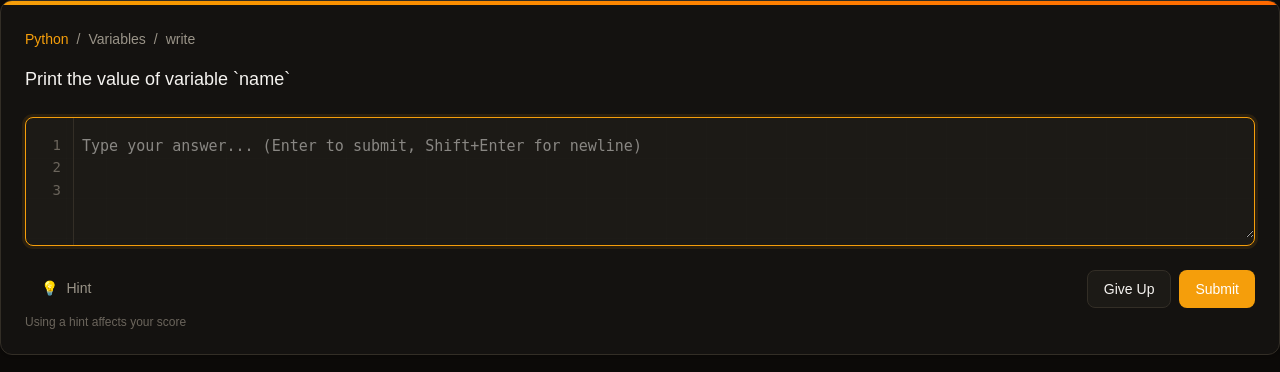
Test case: ExerciseCard › submit flow › transitions to feedback phase on submit
// Type correct answer
Replace the text in the text box with "print(name)" at (640, 178), box [26, 118, 1254, 238]
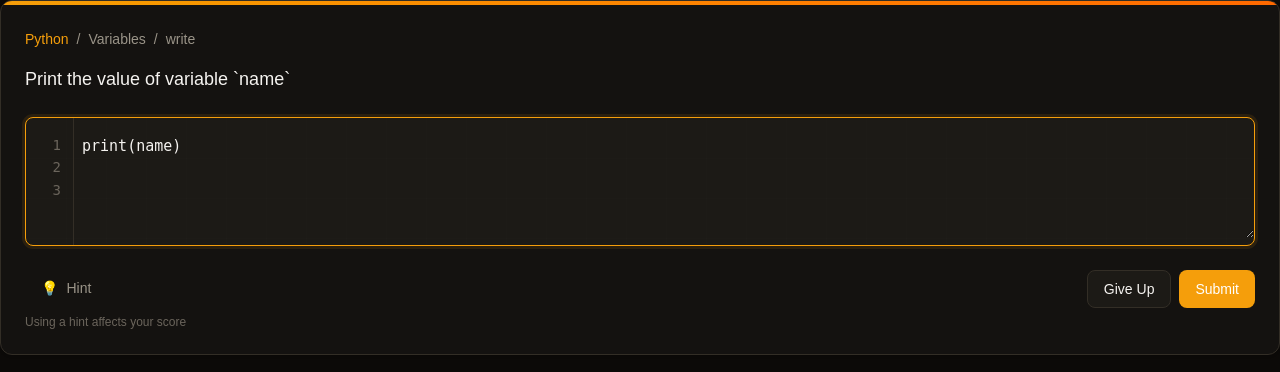
Click the button "Submit" at (1217, 289), box [1179, 270, 1255, 308]
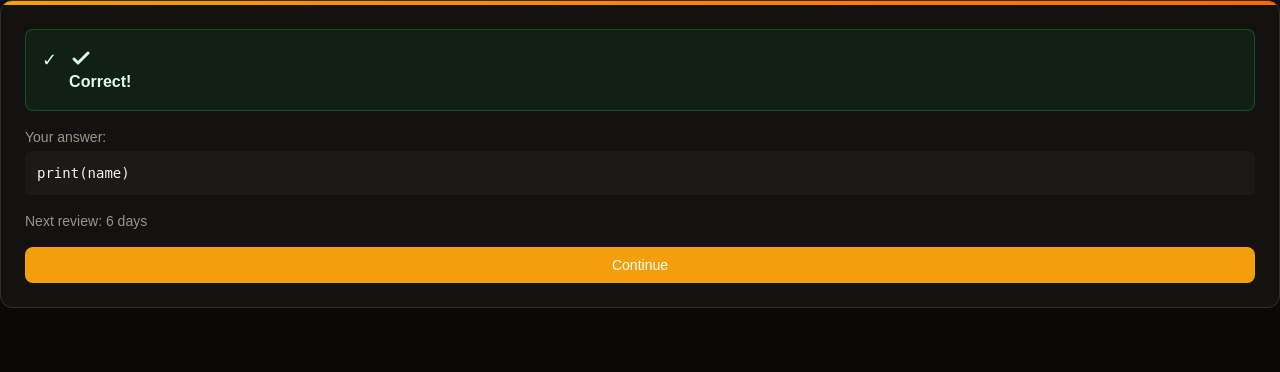
Expected: the text "Correct!" is shown, [69, 73, 131, 90]
